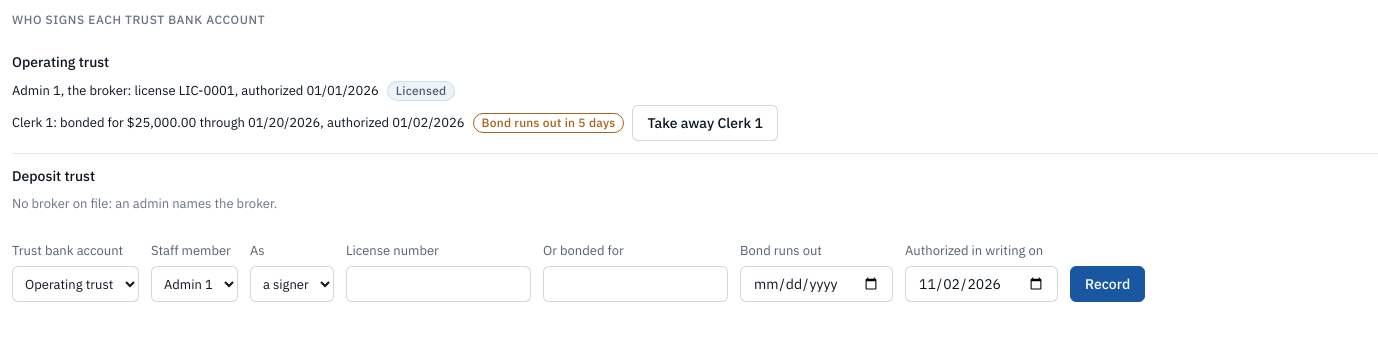
Test: SignersCard › offers a staff member who isn't an admin only to add a signer, and shows a refusal
The width and height of the screenshot is (1378, 337).
Expected: the list item "Operating trust" is shown, left=12, top=40, right=1377, bottom=154
In the field labelled "License number": [438, 284] box left=346, top=266, right=531, bottom=302, type "LIC-0002"
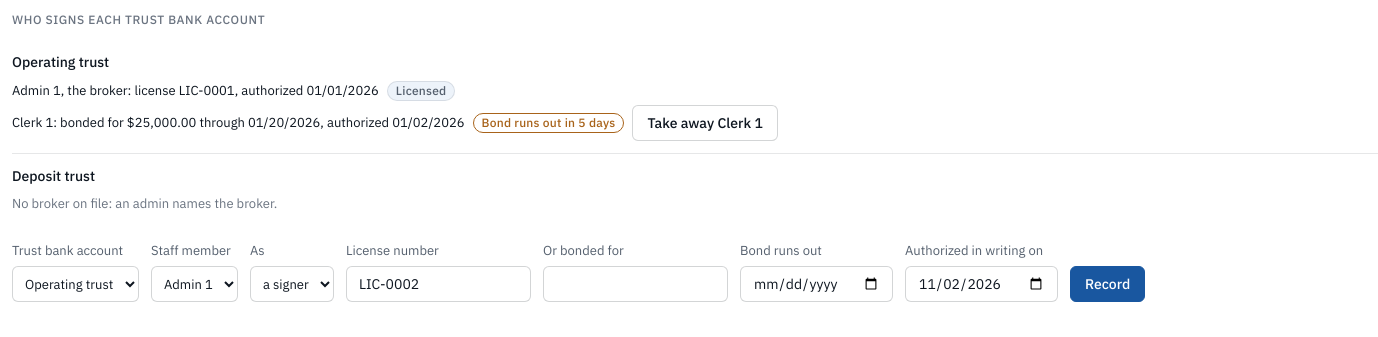
Click the button "Record": [1108, 284] box left=1070, top=266, right=1145, bottom=302
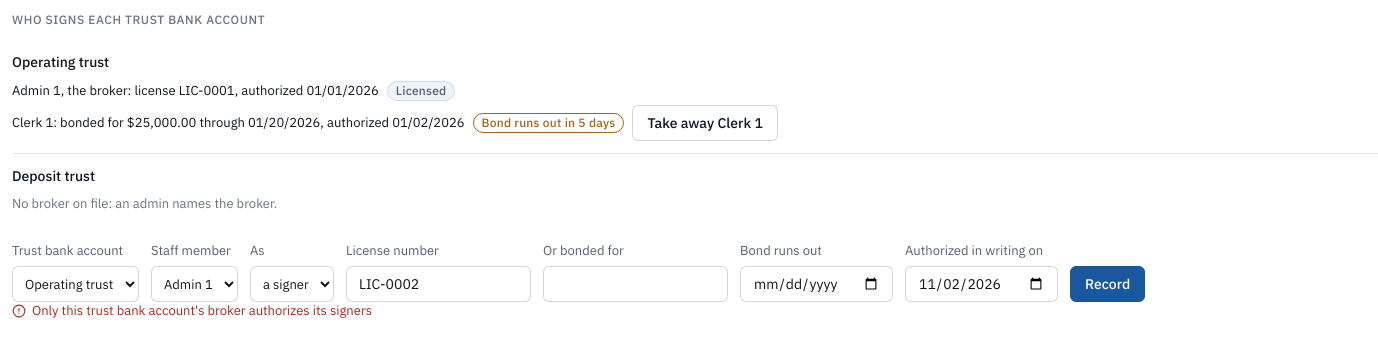
Expected: the text "only this trust bank account's broker authorizes its signers" is shown, left=32, top=302, right=372, bottom=321
